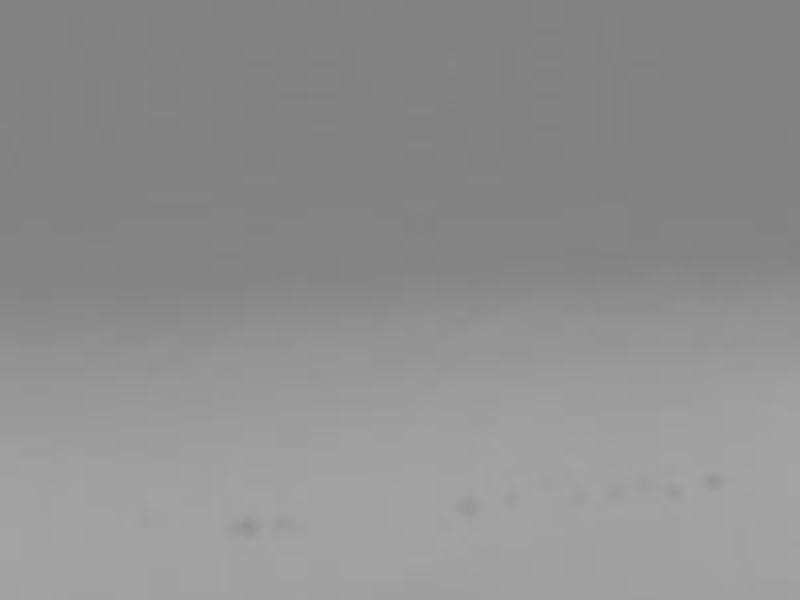defect: (229, 513, 259, 542), (451, 490, 481, 519), (561, 480, 588, 509), (493, 488, 518, 514), (268, 514, 296, 537), (604, 479, 626, 507), (663, 477, 687, 502), (630, 471, 655, 495), (705, 469, 725, 493)
